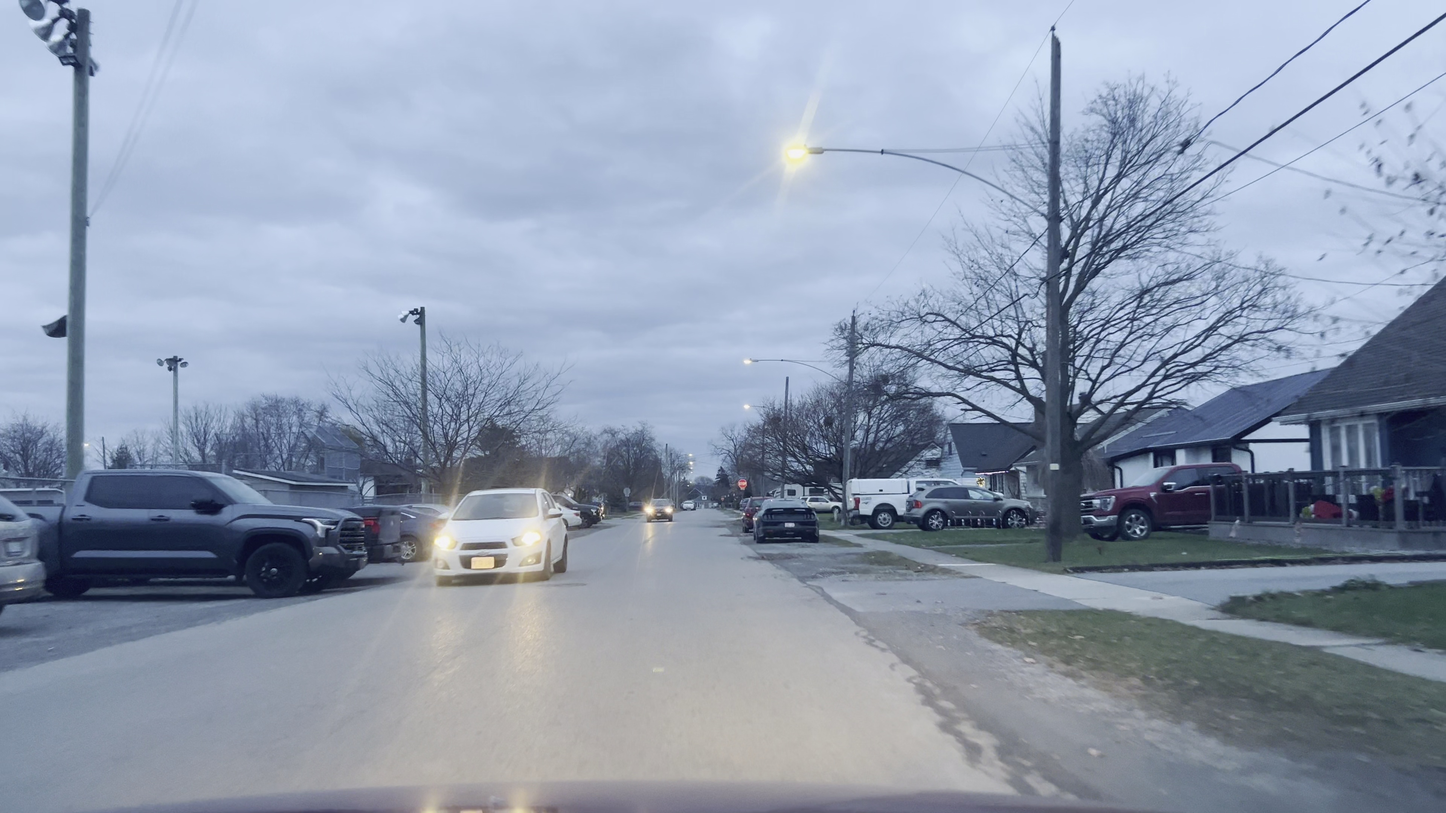cracks: (907, 647, 1065, 797)
